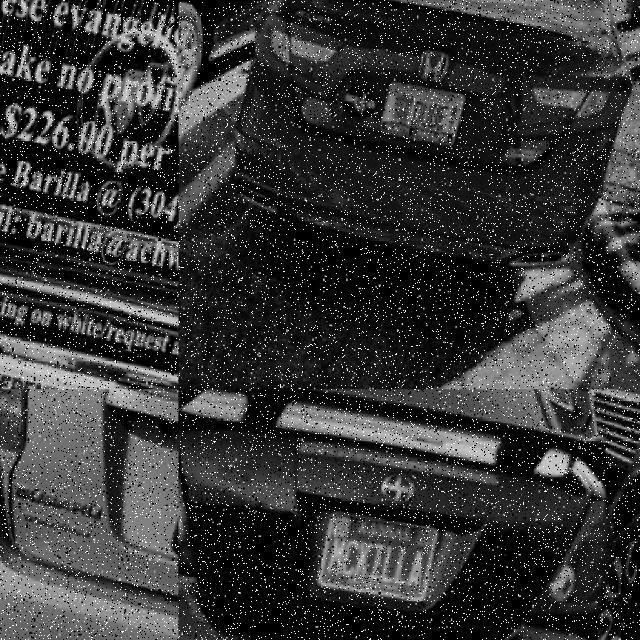LicensePlate: (316, 507, 442, 600), (379, 77, 469, 144)
